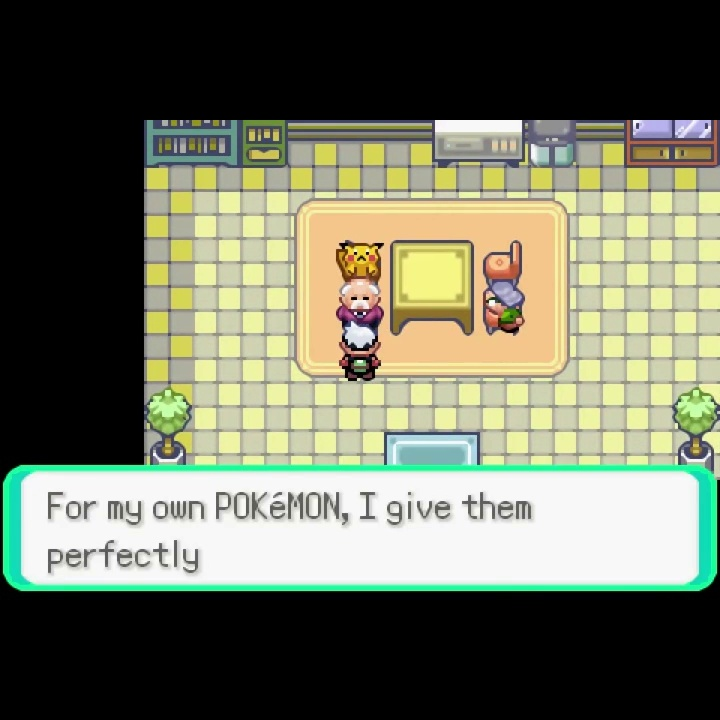agent: (337, 324, 383, 384)
exit: (382, 430, 481, 465)
npc: (481, 280, 525, 338), (334, 276, 385, 326)
